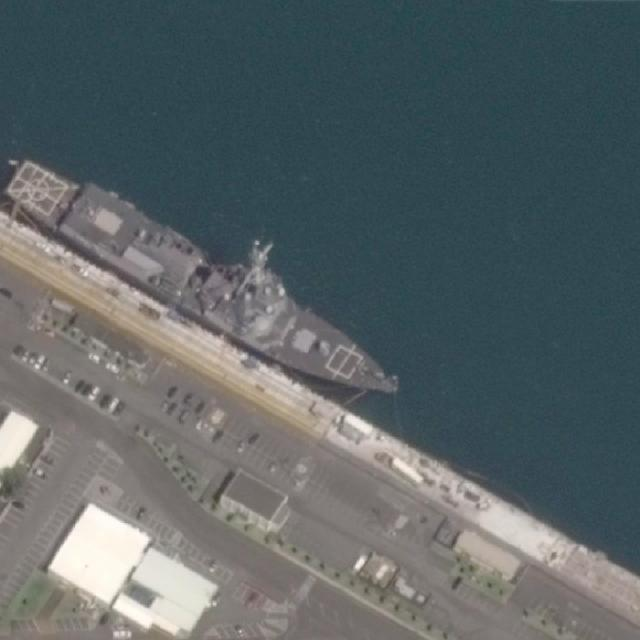Destroyer: (1, 148, 413, 420)
